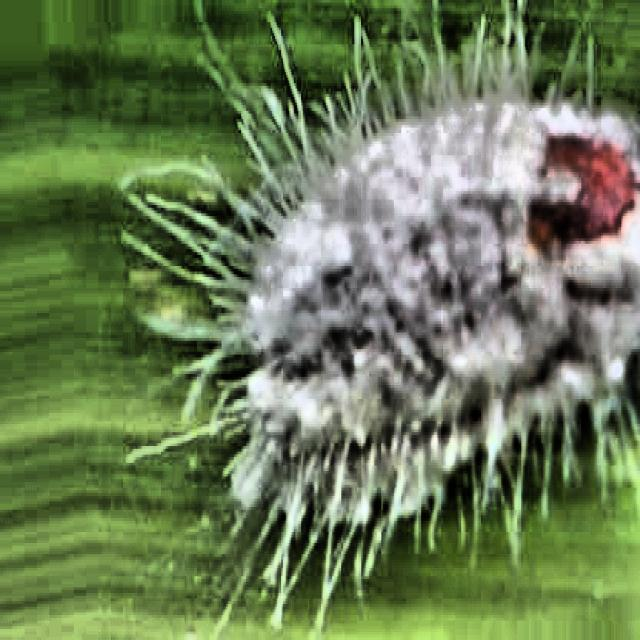Mealy-bug: (108, 40, 640, 640)
